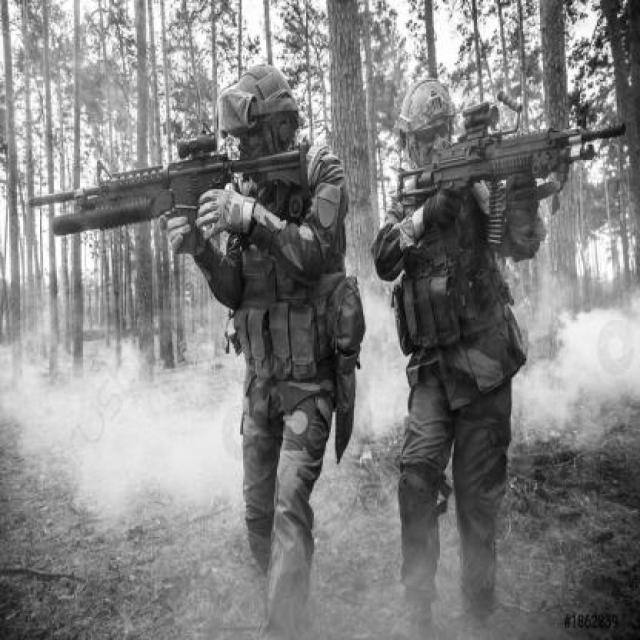weapon: (400, 106, 628, 253), (29, 131, 302, 252)
